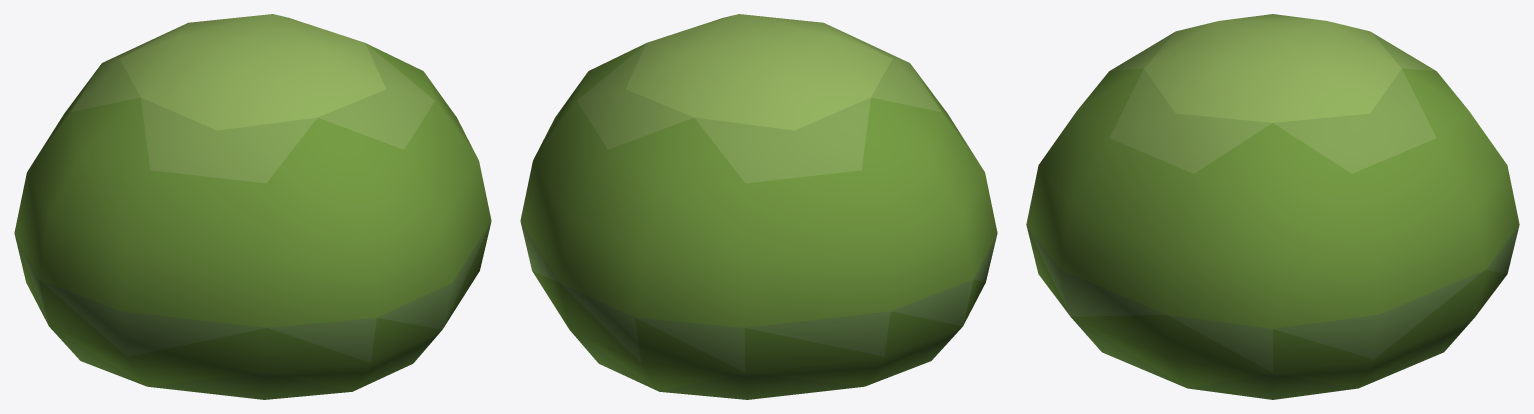
File: itch_kaykit_forest_bush_1_c_color1.glb
3 renders of one model, left to right at view 1: azimuth 30°, elevation 25°; view 2: azimuth 150°, elevation 25°; view 3: azimuth 270°, elevation 25°, orthographic.
Parts seen in each view (by area): view 1: Bush_1_C_Color1; view 2: Bush_1_C_Color1; view 3: Bush_1_C_Color1.
Part boxes in pixels (x1,y1,x2,y2): Bush_1_C_Color1: (14, 14, 491, 399); Bush_1_C_Color1: (520, 14, 997, 399); Bush_1_C_Color1: (1026, 14, 1519, 399).
Size of the model in its own units: 0.96 by 0.6437 by 0.96.
